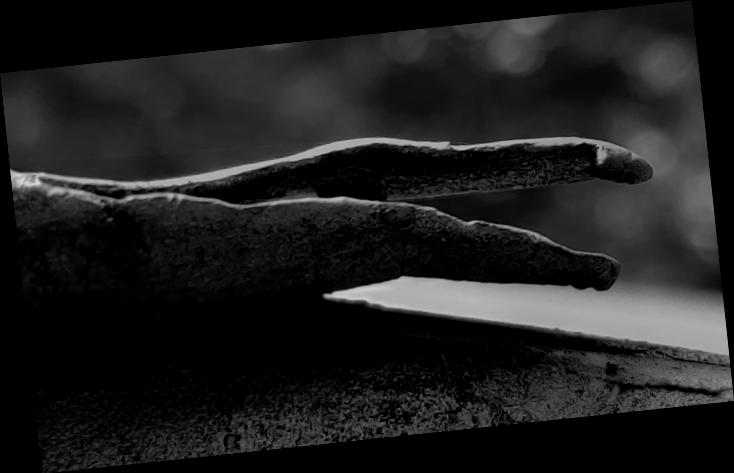crack: (1, 1, 734, 473)
